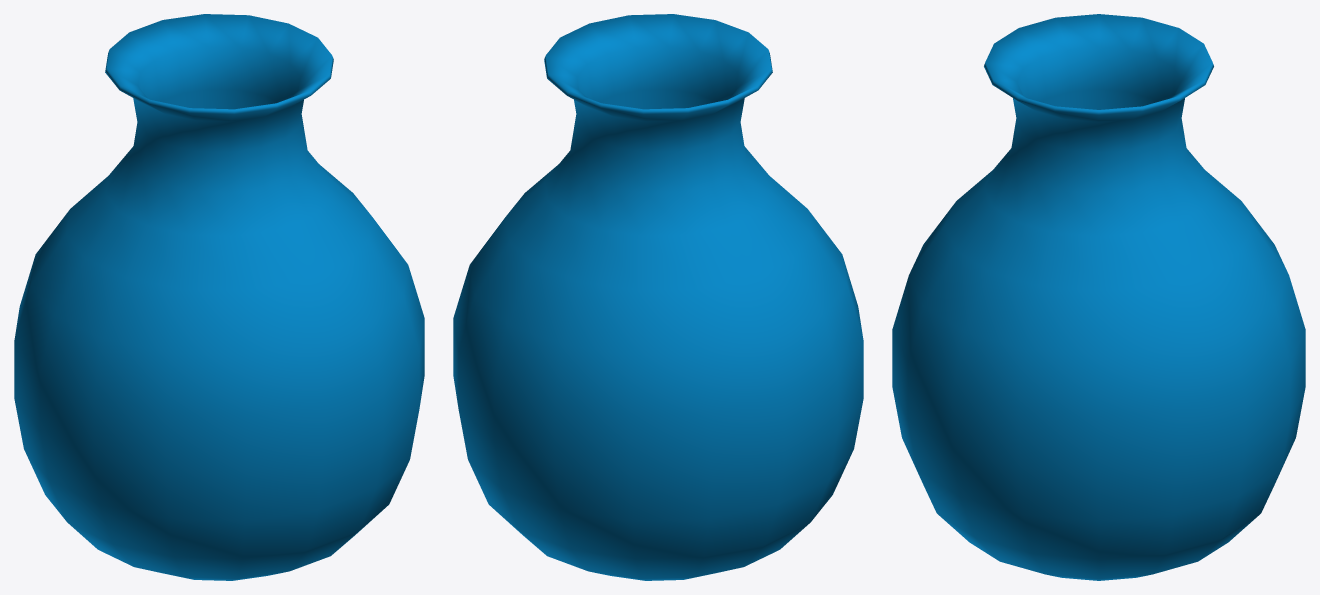
Rendered from Vase_02.fbx.
The picture shows the model from 3 angles, left to right: view 1: azimuth 30°, elevation 25°; view 2: azimuth 150°, elevation 25°; view 3: azimuth 270°, elevation 25°; orthographic projection.
Visible parts, largest first — view 1: Vase_02; view 2: Vase_02; view 3: Vase_02.
Boxes of the visible parts, x1,y1,x2,y2 form: Vase_02: (14,14,424,580); Vase_02: (453,14,863,580); Vase_02: (892,14,1305,580).
Size of the model in its own units: 23.04 by 29.52 by 23.04.
